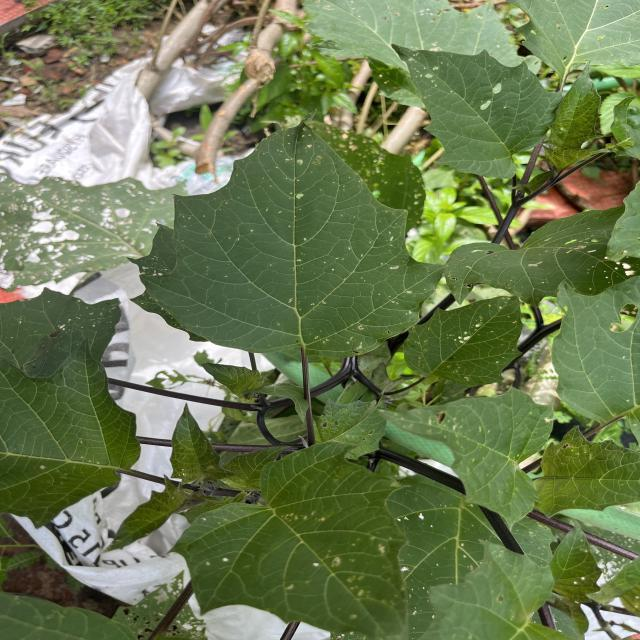Datura metal linn: (136, 106, 448, 362), (162, 436, 417, 640), (370, 380, 556, 538), (388, 41, 572, 184), (398, 294, 526, 389), (98, 472, 187, 558), (533, 58, 607, 152), (166, 398, 240, 486)
